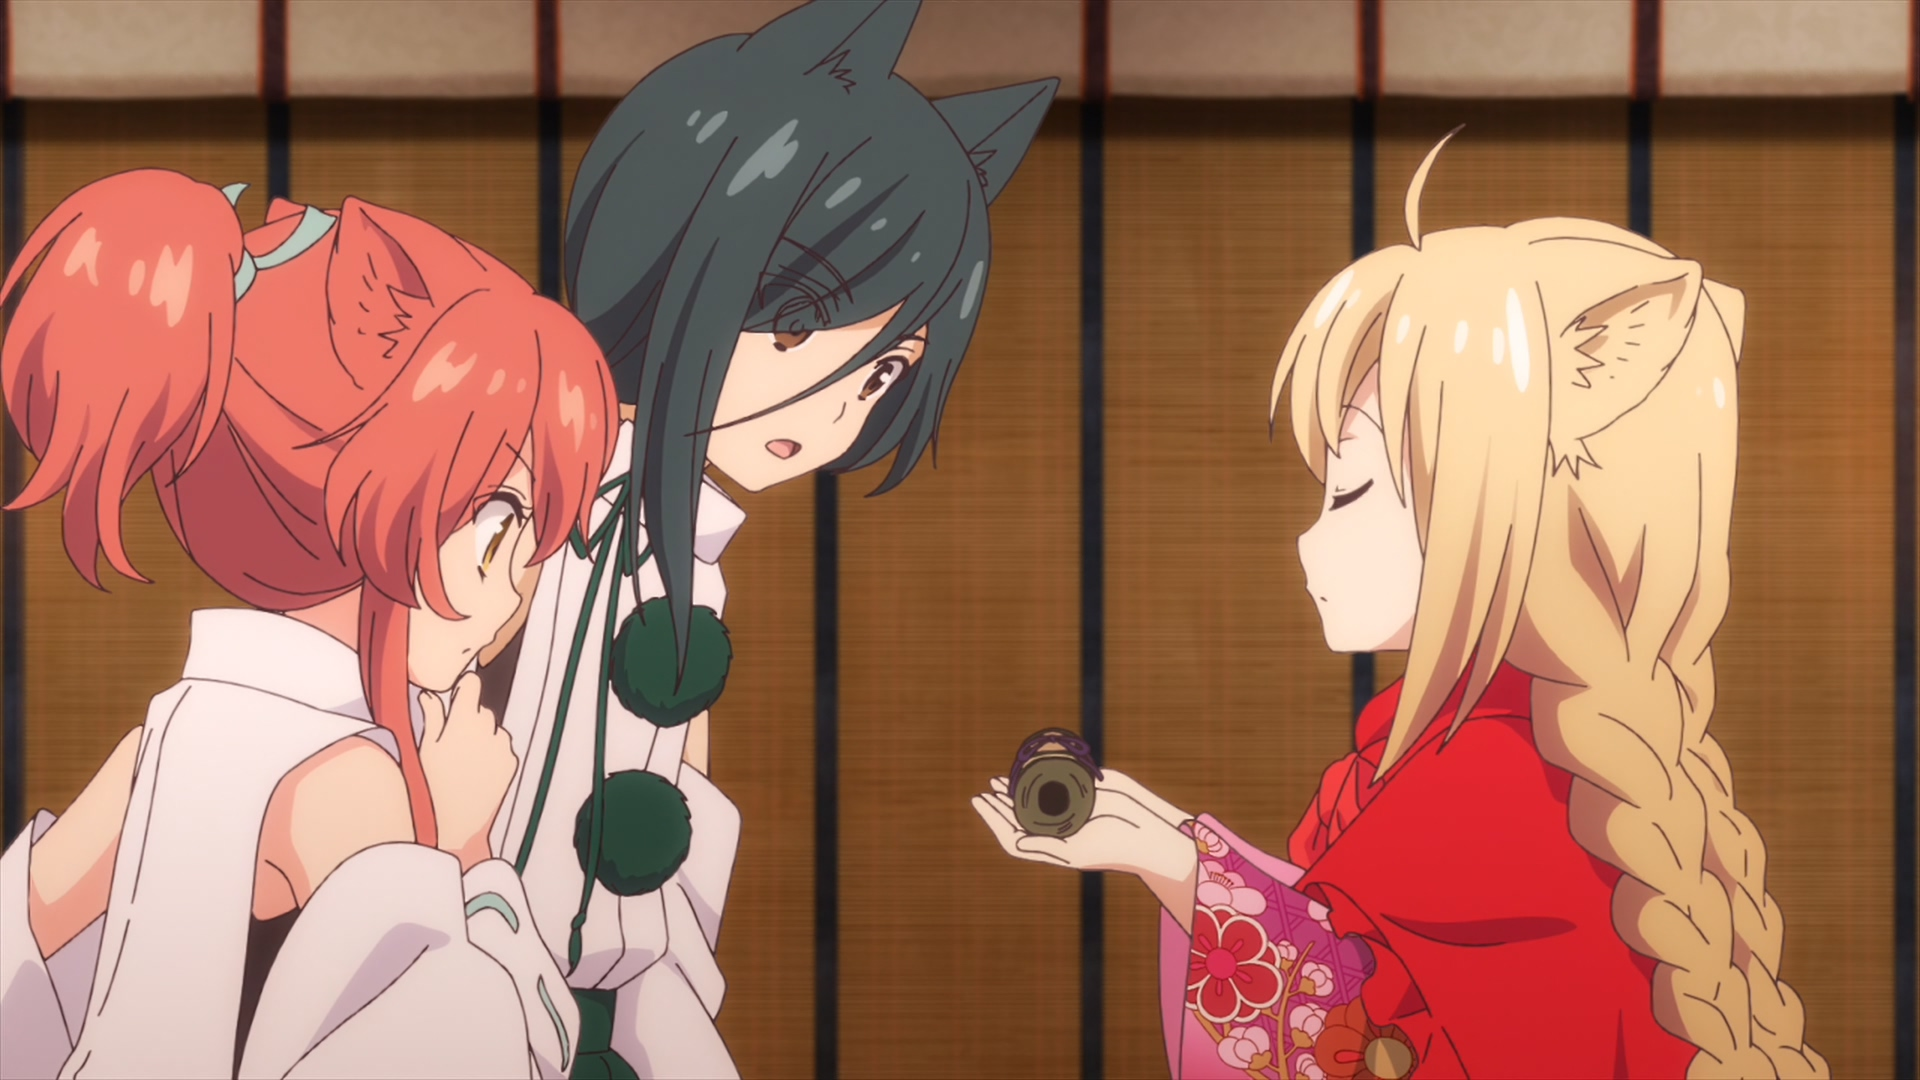其他: (463, 1, 1060, 1080)
柚: (971, 124, 1828, 1080)
椿: (1, 167, 618, 1080)
